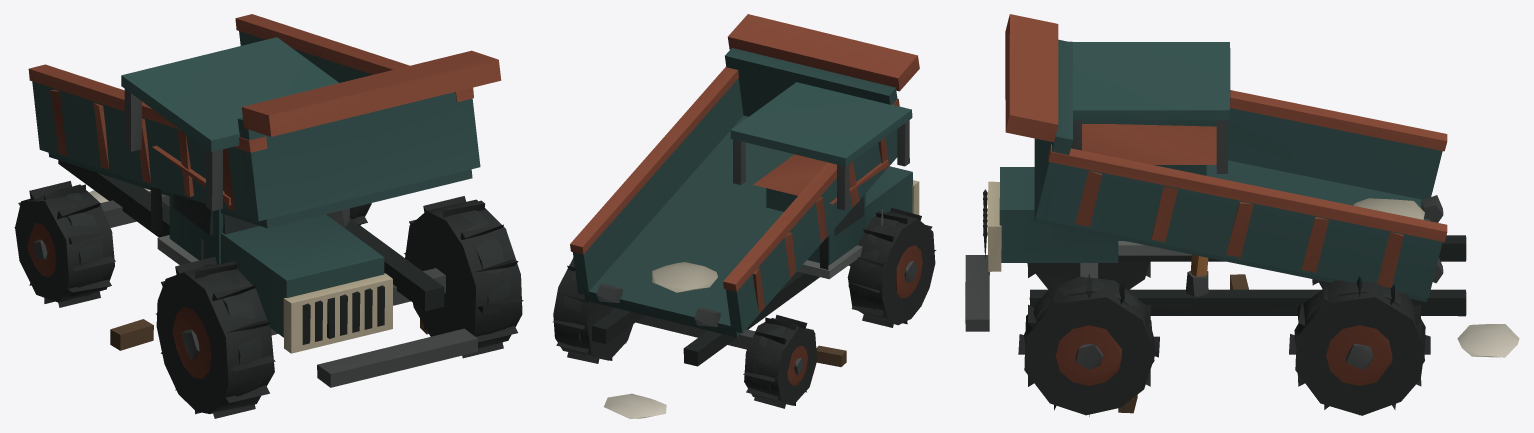
The model's file is haul_truck_a_lod2.glb.
The picture shows the model from 3 angles, left to right: view 1: azimuth 30°, elevation 25°; view 2: azimuth 150°, elevation 25°; view 3: azimuth 270°, elevation 25°; orthographic projection. The views are drawn at different scales.
Visible parts, largest first — view 1: Surface.001; view 2: Surface.001; view 3: Surface.001.
Boxes of the visible parts, box(x1,y1,x2,y2) form: Surface.001: box(14, 14, 523, 418); Surface.001: box(552, 14, 936, 418); Surface.001: box(965, 14, 1519, 416).
Bounding box in the file's own units: 7.3 × 7.48 × 12.91.
